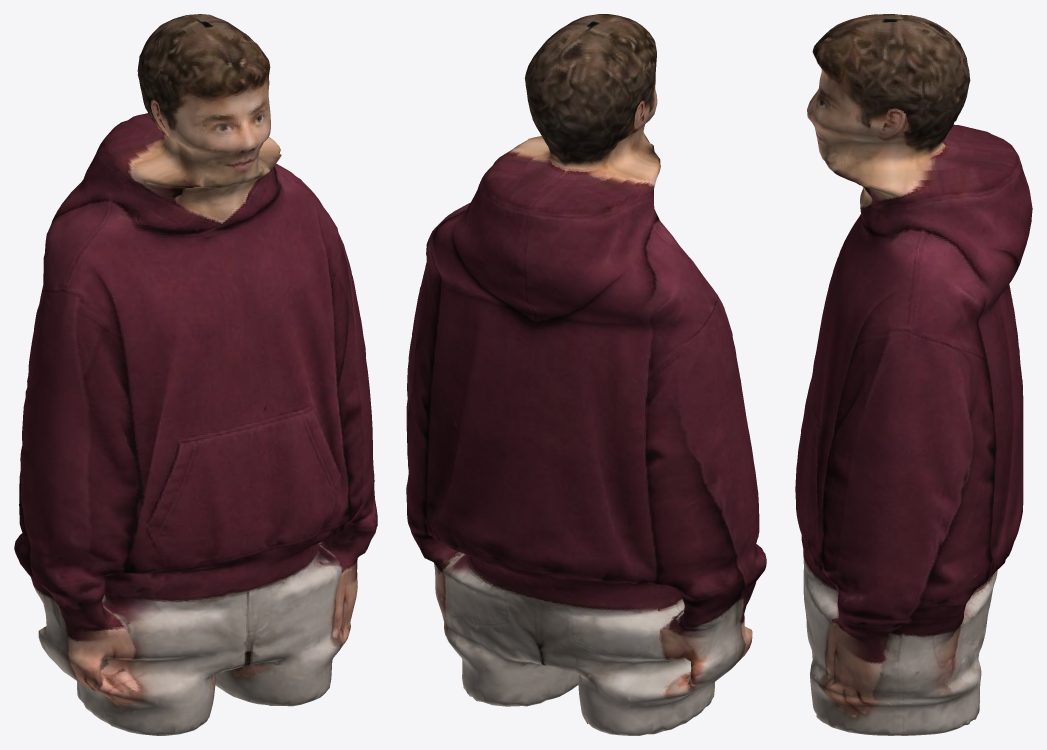
Rendered from wine-model.glb.
3 views of the same model, side by side, from view 1: azimuth 30°, elevation 25°; view 2: azimuth 150°, elevation 25°; view 3: azimuth 270°, elevation 25° (orthographic).
Parts seen in each view (by area): view 1: geometry_0; view 2: geometry_0; view 3: geometry_0.
Part boxes in pixels (<box>): geometry_0: <box>14,14,377,735</box>; geometry_0: <box>406,14,766,735</box>; geometry_0: <box>795,14,1032,735</box>.
Bounding box in the file's own units: 0.4783 × 0.9351 × 0.3012.
1 material, 1 textured.
